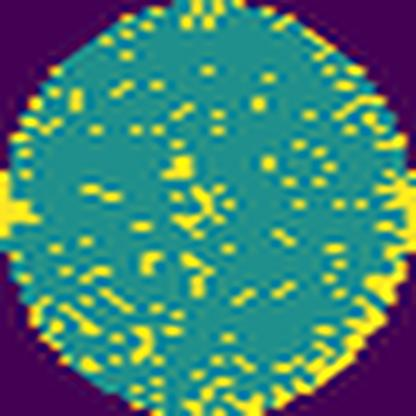Edge-Loc: (272, 293, 386, 413), (365, 165, 415, 306), (0, 170, 44, 237)
